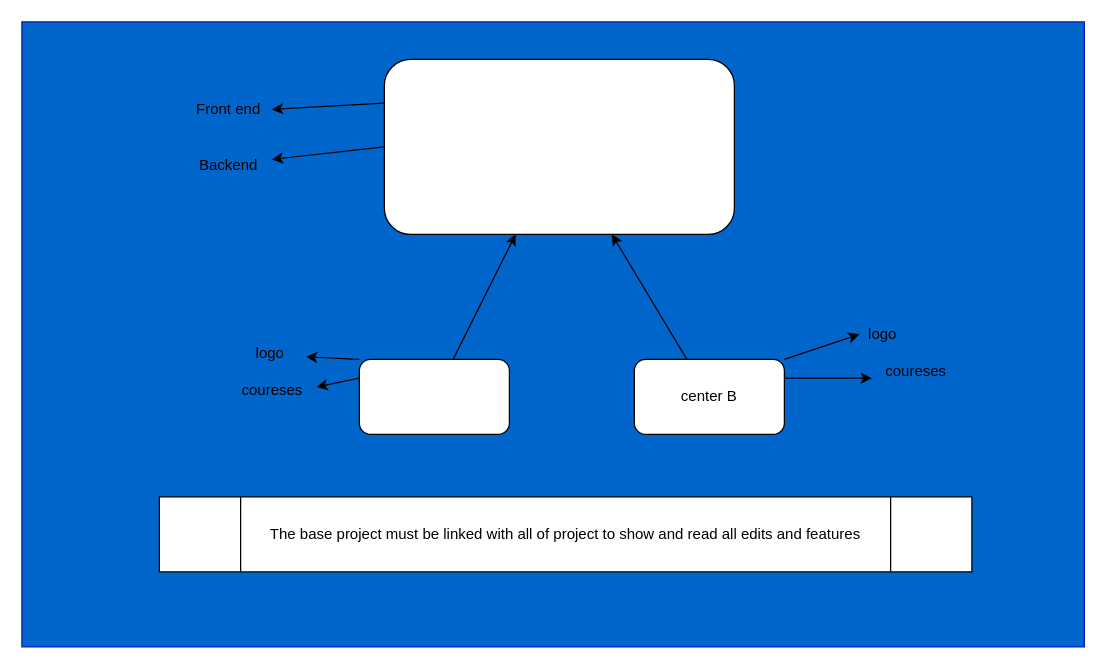
Image size: 1106x669. Some labels were removed from this diagram. Here are the shapes that lost their labels. From the top down, the centre of each, then its label:
the point at 558,146: the base project
the point at 433,396: center A
